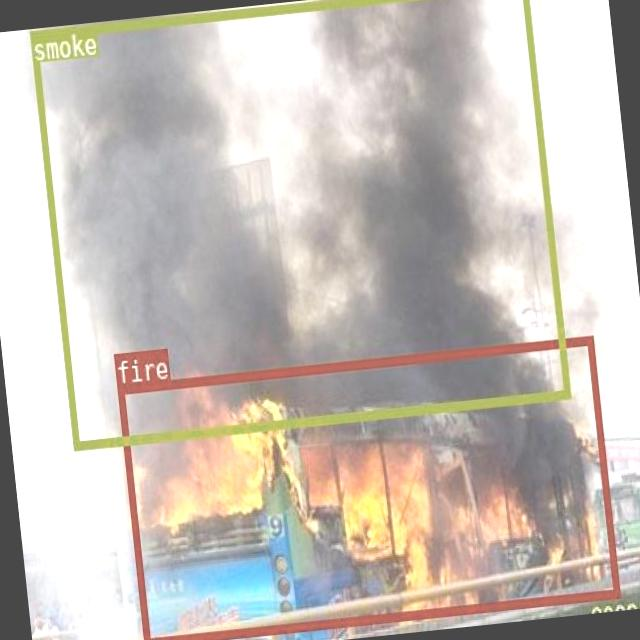fire: (116, 333, 619, 640)
smoke: (28, 0, 569, 447)
